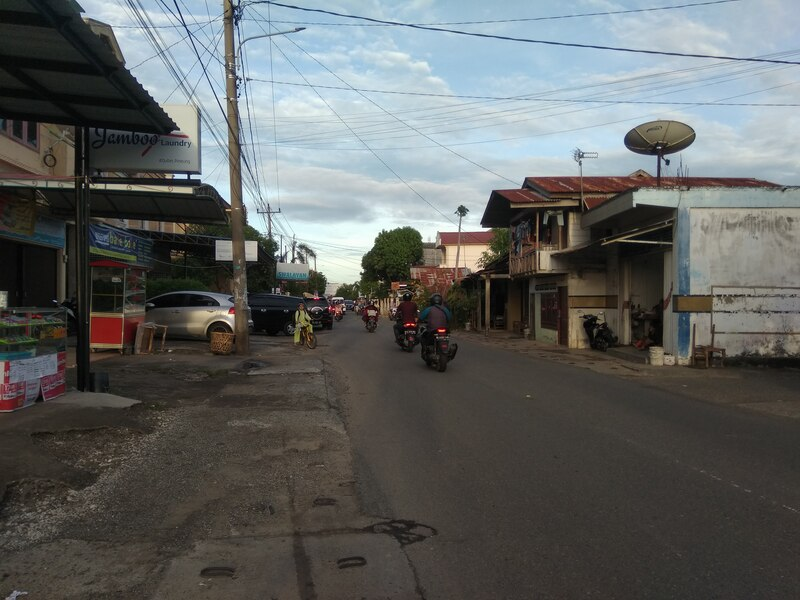bike: (291, 317, 320, 351)
car: (147, 287, 257, 350)
motorcycle: (419, 317, 462, 374), (578, 311, 620, 355), (390, 306, 427, 354), (363, 307, 381, 332)
